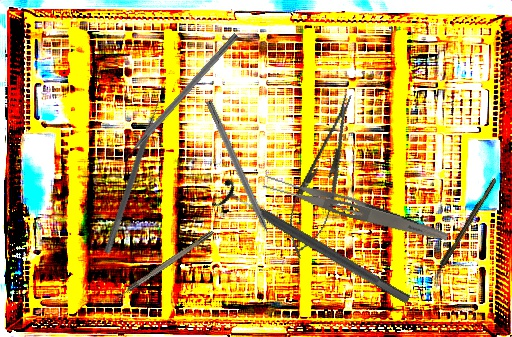Dressing Forceps: (260, 170, 452, 246)
Fixation Ring: (210, 175, 418, 316)
Hook Surgical: (112, 31, 240, 172), (203, 99, 279, 252), (108, 229, 216, 305), (429, 177, 499, 282)
Needle Holder: (276, 87, 370, 264)
Spatula Surgical: (103, 93, 169, 257)
